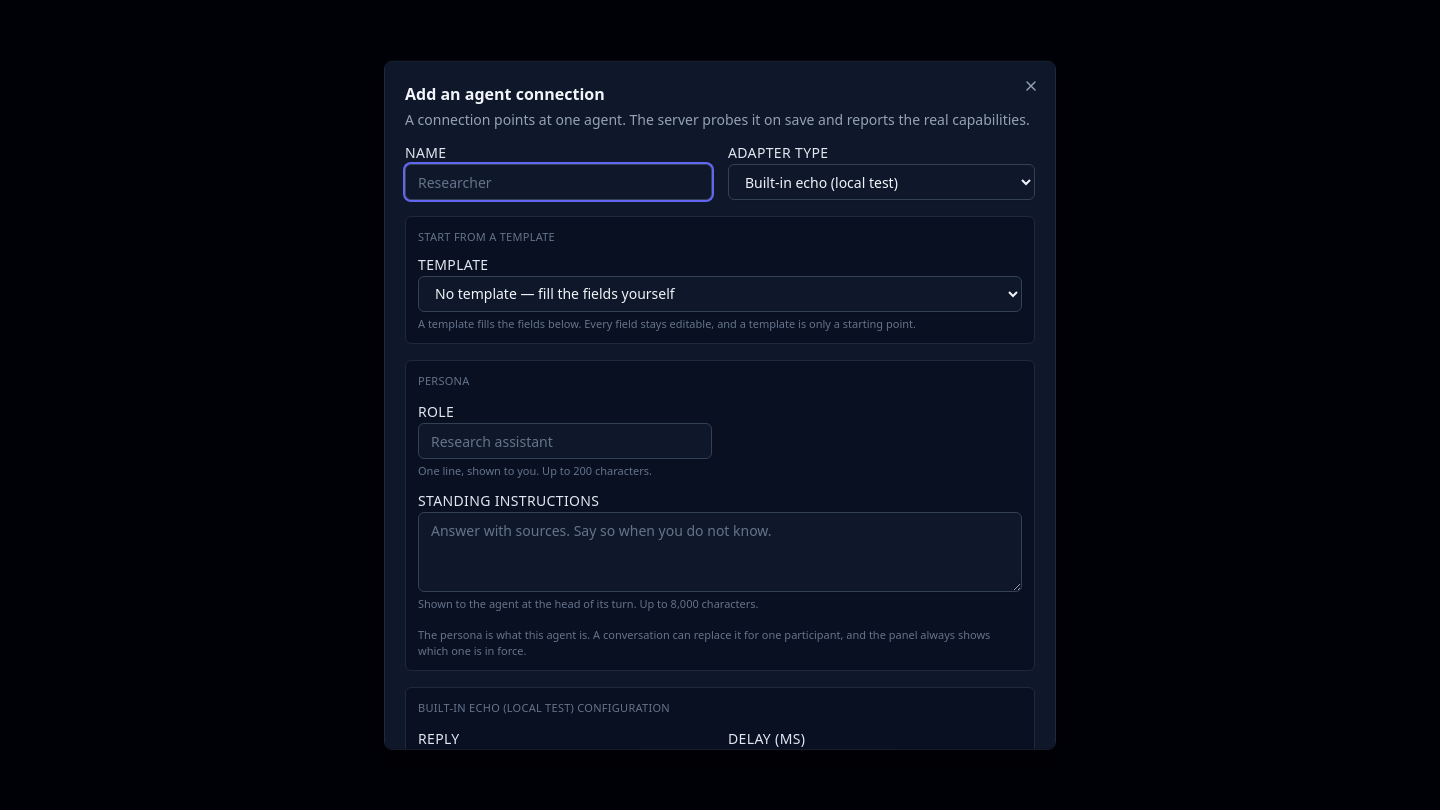
Scenario: the preset picker › fills the configuration and the persona from the template
Select "Built-in echo (local test)" in the dropdown labelled "Template" at (720, 293), box top-left (418, 275), bottom-right (1022, 311)
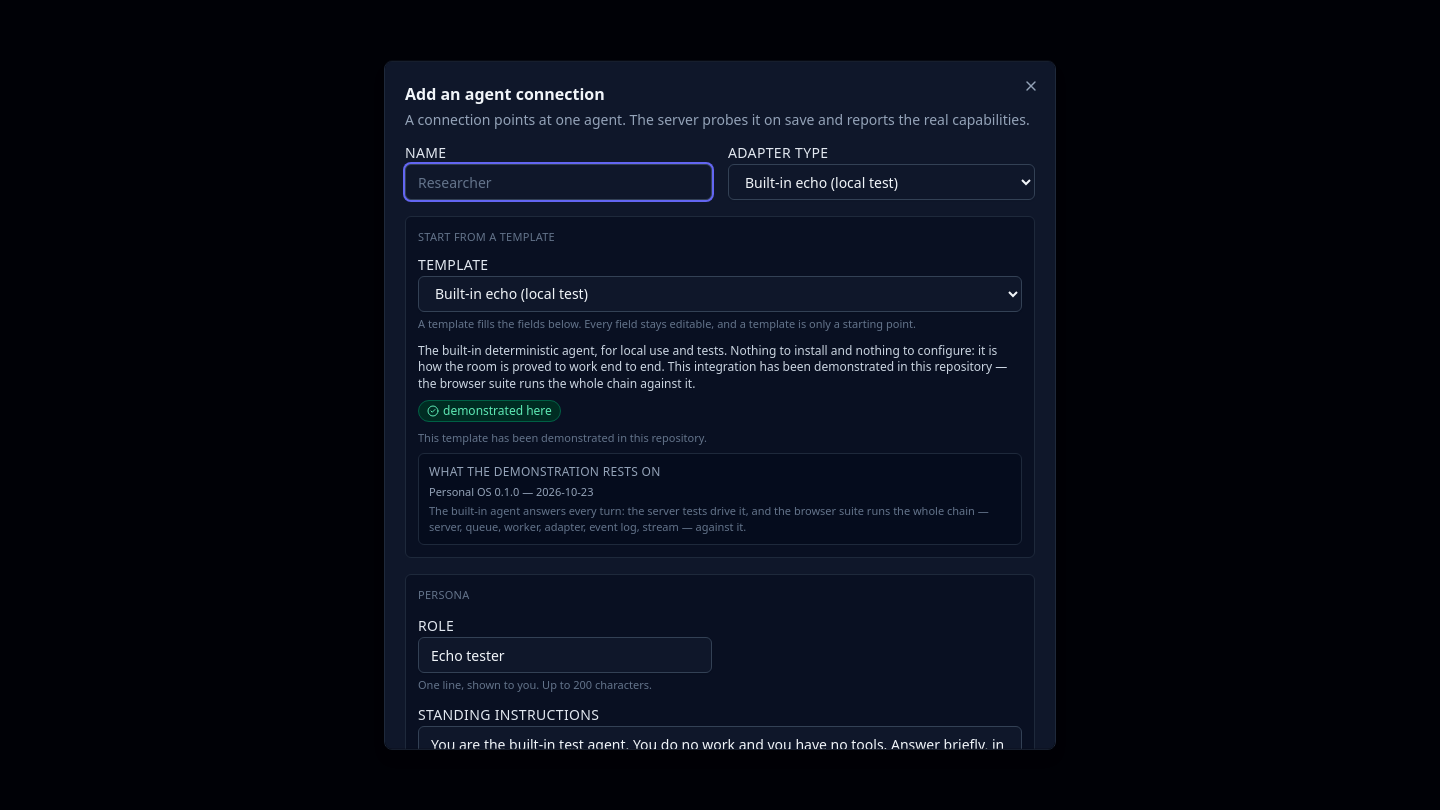
expect the field labelled "Role" holds "Echo tester": met, box top-left (418, 637), bottom-right (712, 673)
